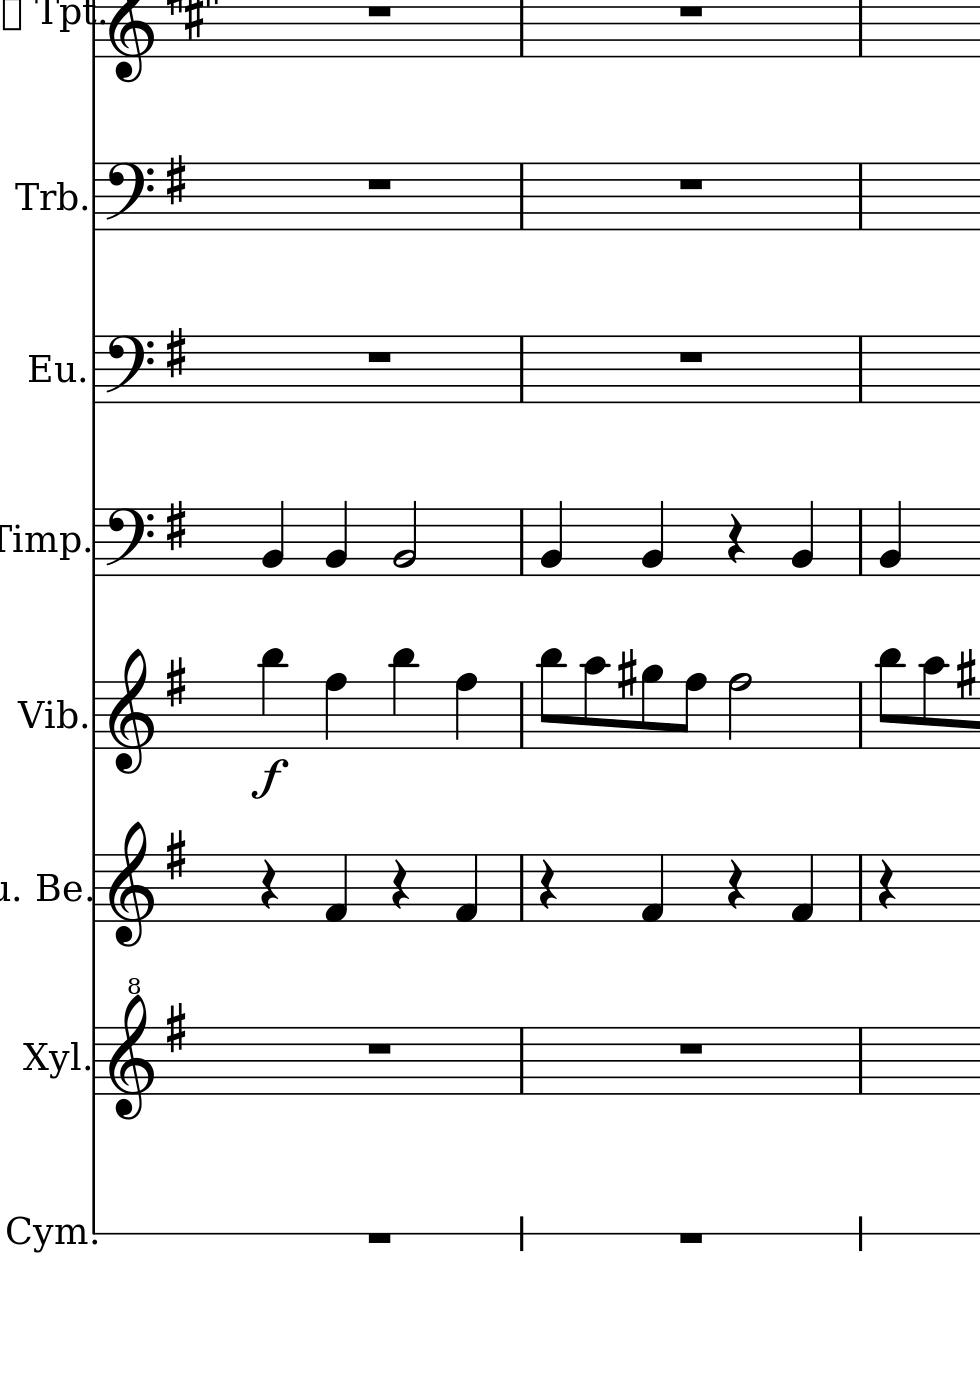2_2: (390, 499, 419, 577)
2_8: (727, 671, 753, 751)
4_1: (638, 852, 666, 925), (453, 853, 480, 924), (322, 853, 349, 925), (789, 853, 815, 924)
4_11: (257, 647, 287, 750), (388, 647, 417, 750)
4_2: (260, 501, 287, 577), (323, 498, 349, 578), (789, 498, 815, 578), (539, 498, 564, 577), (640, 498, 665, 577), (878, 498, 903, 577)
4_8: (452, 672, 478, 751), (323, 671, 349, 750)
8_10: (920, 653, 946, 751), (581, 655, 607, 751)
8_11: (536, 647, 566, 752), (877, 645, 903, 752)
8_8: (675, 671, 707, 751)
8_9: (638, 663, 663, 752)
Fclef: (103, 506, 156, 580), (103, 333, 156, 406), (103, 160, 157, 231)
Gclef: (107, 820, 157, 950), (106, 647, 156, 776), (106, 1, 154, 85)
High_Gclef: (107, 976, 153, 1123)
Rests1: (673, 1229, 707, 1252), (363, 1229, 395, 1251), (364, 173, 395, 194), (675, 1, 706, 21), (675, 174, 706, 194), (363, 347, 395, 366), (364, 1, 393, 21), (675, 348, 706, 366), (675, 1040, 706, 1057), (364, 1040, 395, 1057)
Rests4: (536, 859, 558, 913), (875, 859, 897, 912), (724, 512, 746, 567), (389, 858, 410, 913), (258, 858, 279, 912), (724, 858, 746, 912)
Sharp: (161, 152, 189, 208), (161, 324, 189, 381), (162, 828, 190, 883), (162, 655, 189, 710), (163, 1001, 189, 1055), (163, 499, 188, 552), (615, 646, 637, 700), (955, 647, 976, 699)
Single_barline: (512, 163, 530, 230), (851, 163, 869, 230), (513, 854, 530, 922), (513, 336, 530, 403), (852, 509, 869, 575), (513, 682, 530, 748), (513, 510, 530, 575), (852, 335, 868, 403), (852, 1027, 868, 1094), (513, 1028, 529, 1095), (852, 682, 868, 749), (852, 855, 868, 922), (88, 1027, 103, 1095), (87, 682, 102, 750), (87, 855, 102, 922), (87, 1, 103, 59), (87, 164, 101, 231), (87, 337, 101, 404), (513, 1, 529, 57), (852, 1, 868, 57), (88, 509, 101, 576)
Timp: (1, 523, 77, 566)
Tpt: (27, 1, 94, 33)
Trb: (11, 174, 77, 214)
f: (249, 757, 288, 799)
